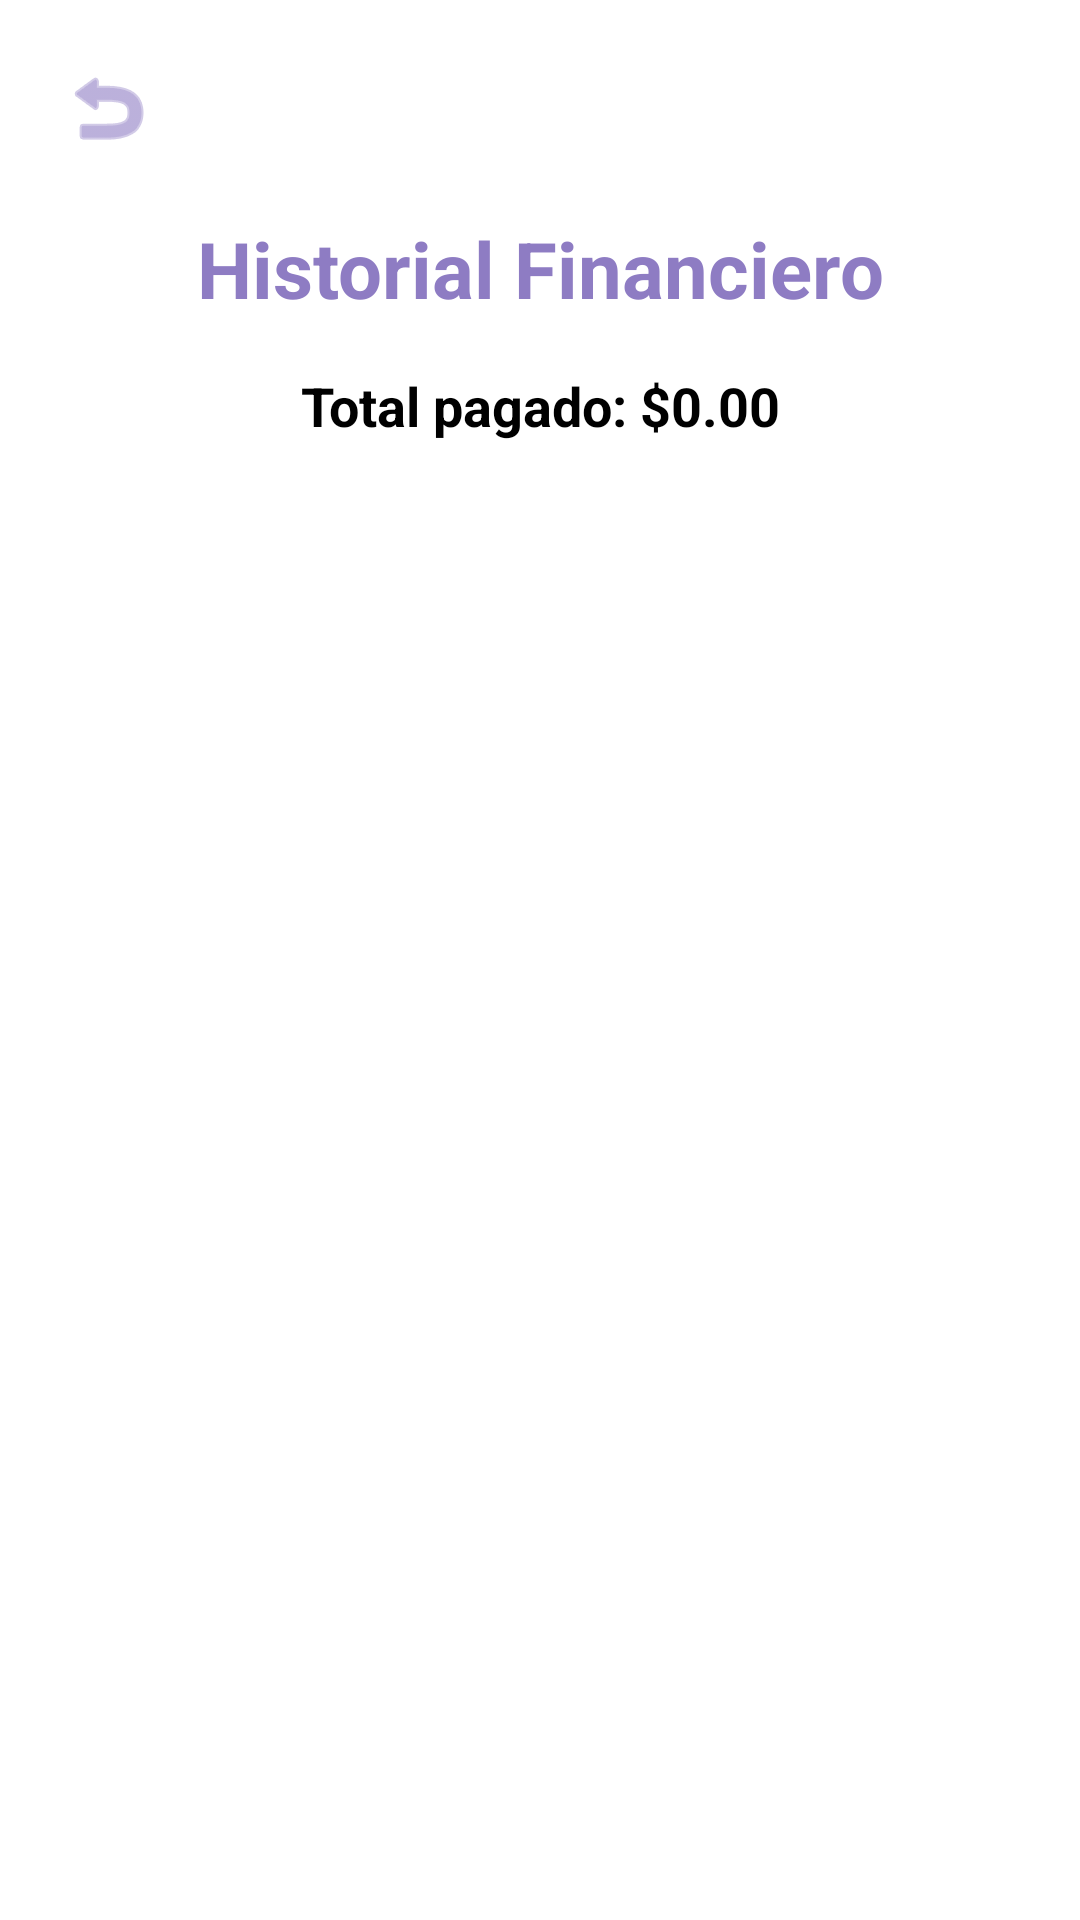

Where to tap for icons on this 1080x1920 app screen, as (x,y):
Regresar: (109,109)
